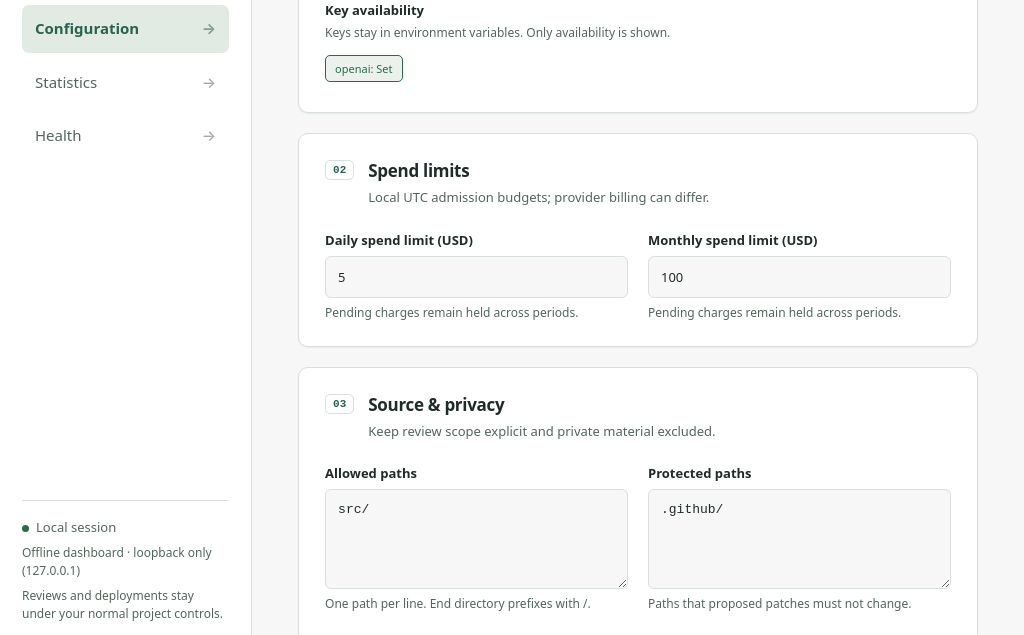
never saves on edit or preview and requires a separate explicit confirmation
(page scrolled)
Replace the text in the number field labelled "Daily spend limit (USD)" with "7". click: (477, 277)
box: [325,256,628,298]
(page scrolled)
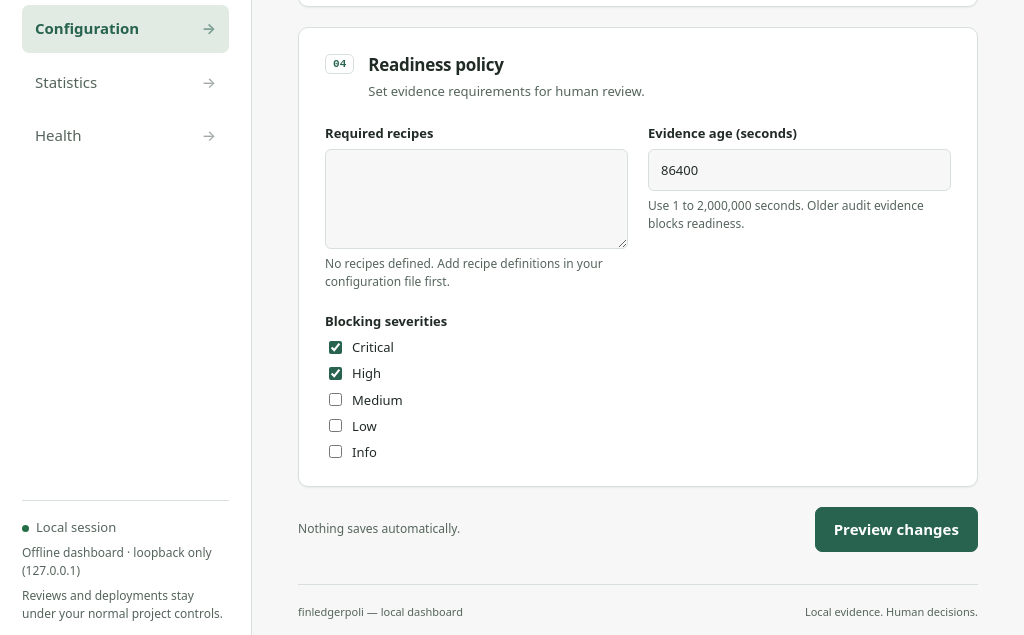
Click the button "Preview changes". click: (896, 530)
box: [815,507,978,552]
(page scrolled)
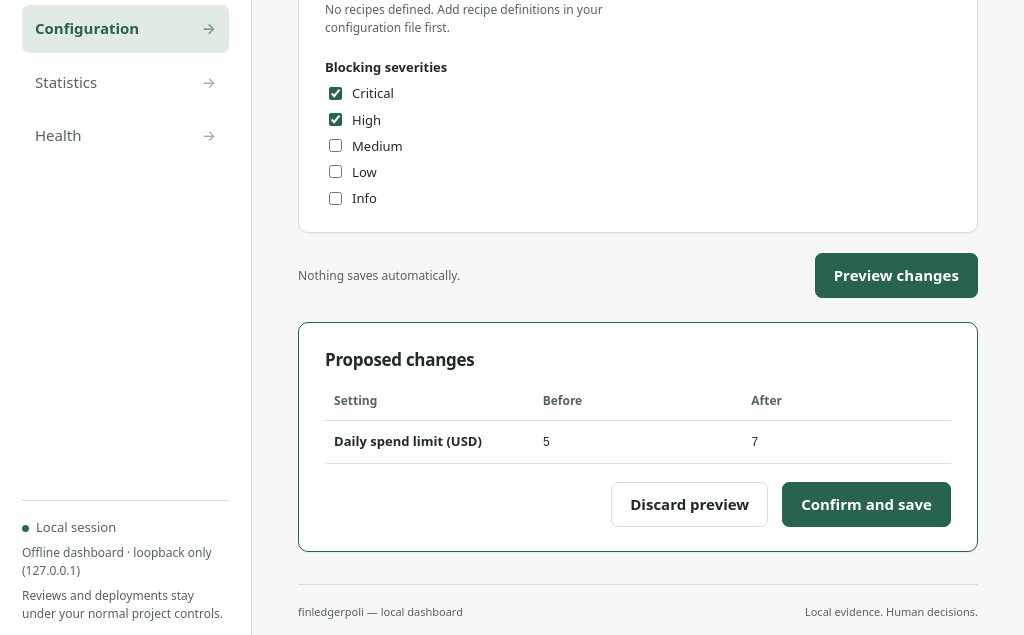
Result: the heading "Proposed changes" is shown at [325,348,474,371]
Result: the column heading "Before" is shown at [534,382,742,421]
Click the button "Confirm and save". click: (867, 505)
box: [782,482,951,527]
(page scrolled)
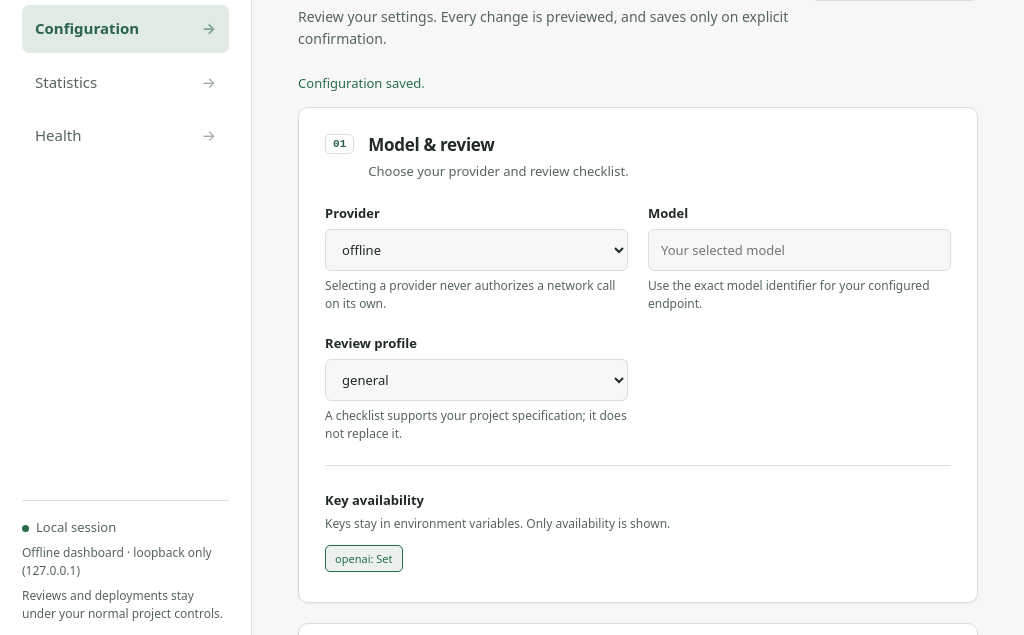
Result: the text "Configuration saved." is shown at [298,74,425,92]
